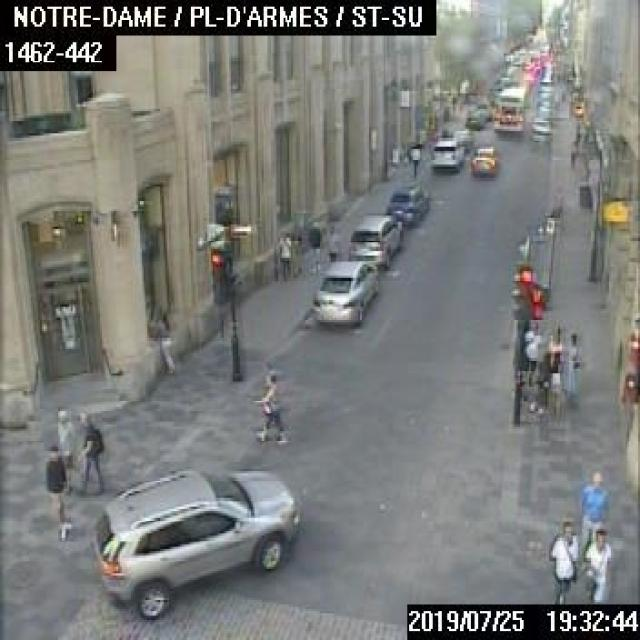bus: (493, 84, 522, 129)
pedestrian: (249, 369, 289, 442), (42, 442, 72, 538), (580, 469, 607, 571), (548, 516, 578, 602), (581, 525, 611, 602), (539, 322, 564, 411), (76, 406, 102, 489), (53, 407, 74, 490), (564, 328, 580, 412), (154, 311, 174, 373), (524, 318, 539, 384), (306, 218, 322, 273), (276, 229, 291, 280), (290, 218, 302, 276), (324, 223, 336, 259), (407, 140, 418, 173)
vehicle: (89, 462, 300, 620), (309, 256, 377, 324), (346, 213, 402, 267), (383, 183, 428, 226), (431, 135, 464, 169), (469, 140, 496, 173), (462, 105, 485, 126)
